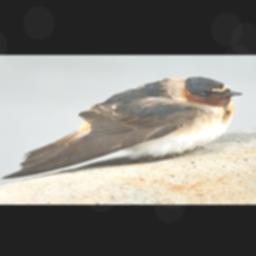Swallow: (0, 76, 244, 180)
